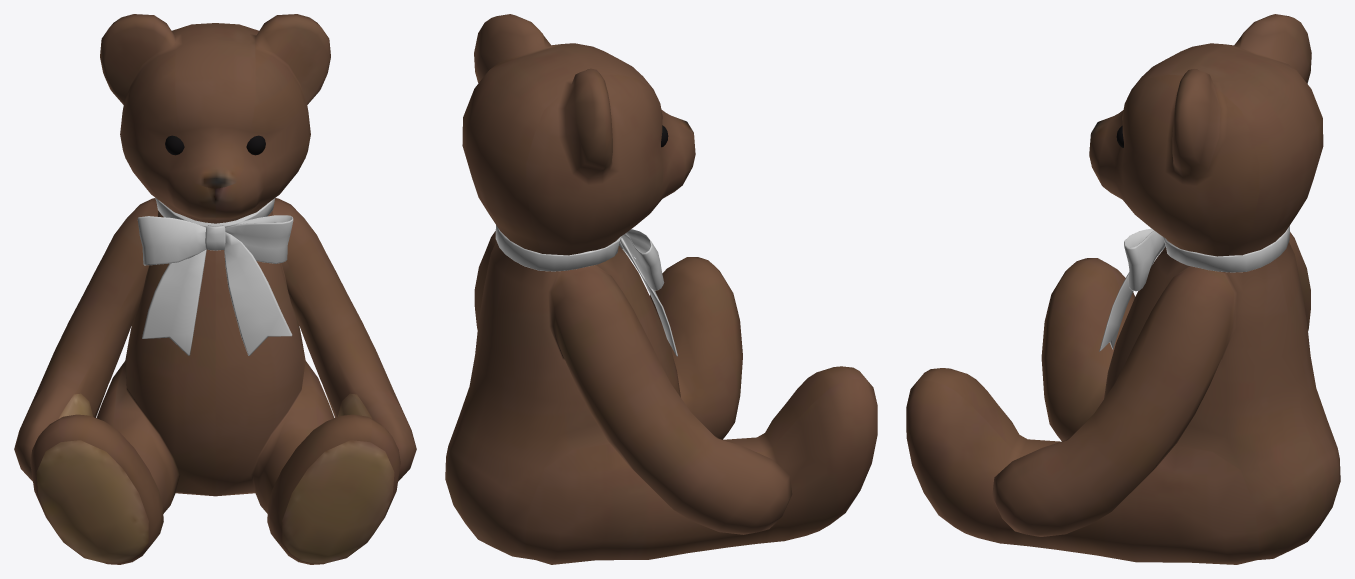
3 views of the same model, side by side, from view 1: azimuth 30°, elevation 25°; view 2: azimuth 150°, elevation 25°; view 3: azimuth 270°, elevation 25° (orthographic). The views are drawn at different scales.
Bounding box in the file's own units: 17.16 × 21.36 × 17.03.
Materials: 2 (2 with a texture image).
